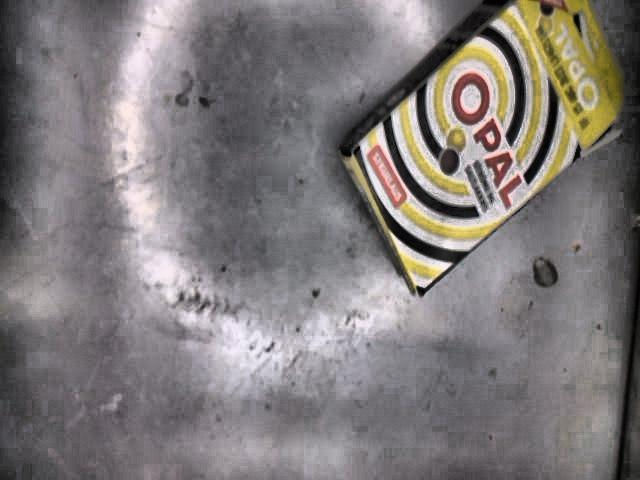Paper: (339, 0, 625, 301)
